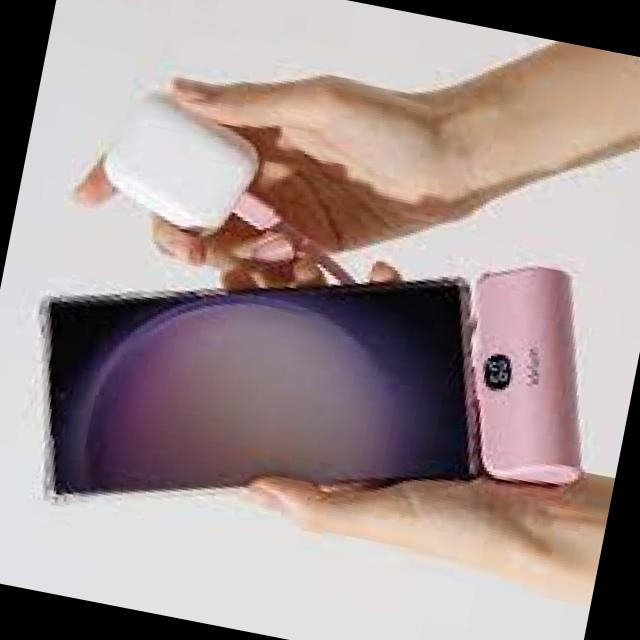portable-charger: (438, 249, 622, 496), (94, 88, 270, 242)
